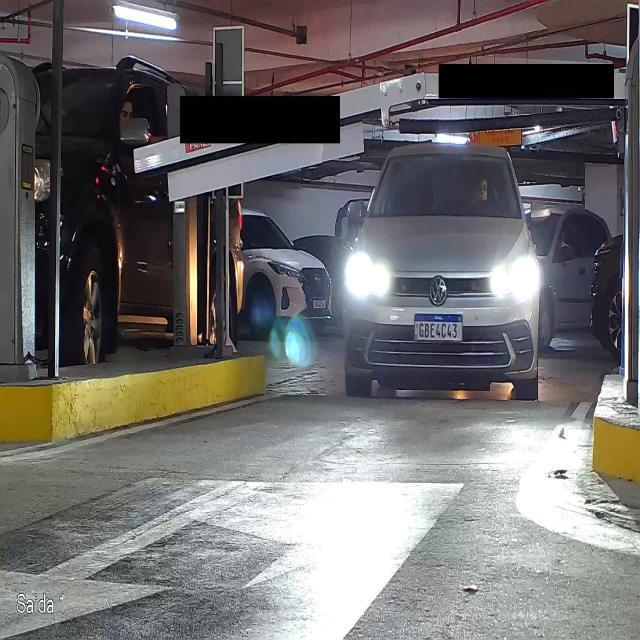mercosul_plate: (413, 312, 464, 342)
